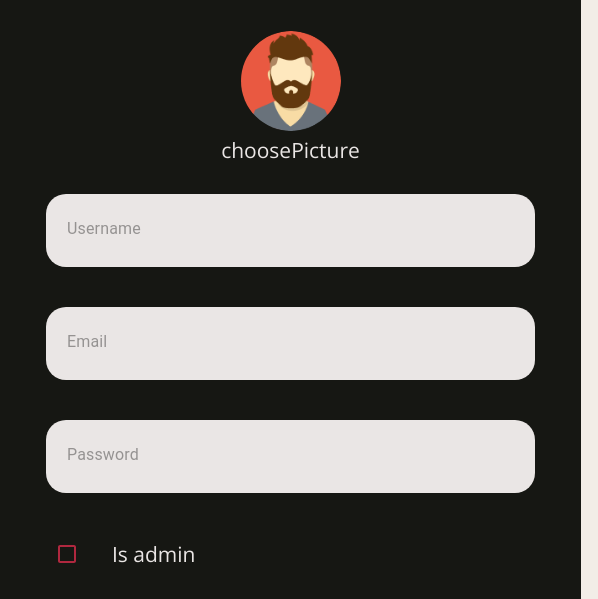
Test: RegisterForm › should display error message on failed register
Type "test" into the field with placeholder "Username" at (292, 229), box [67,213,516,245]
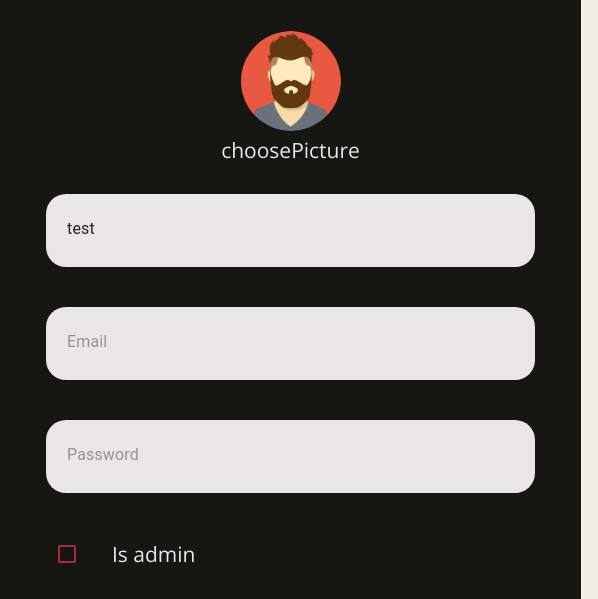
Type "test@mail.com" into the field with placeholder "Email" at (292, 342), box [67,326,516,358]
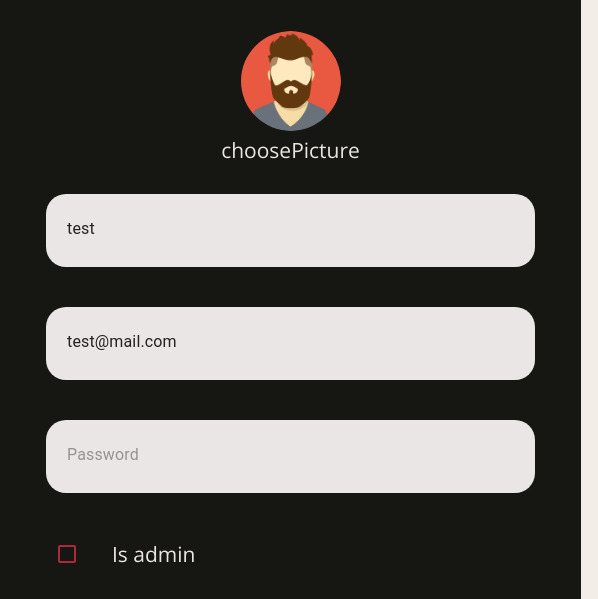
Type "wrongpass" into the password field with placeholder "Password" at (292, 455), box [67,439,516,471]
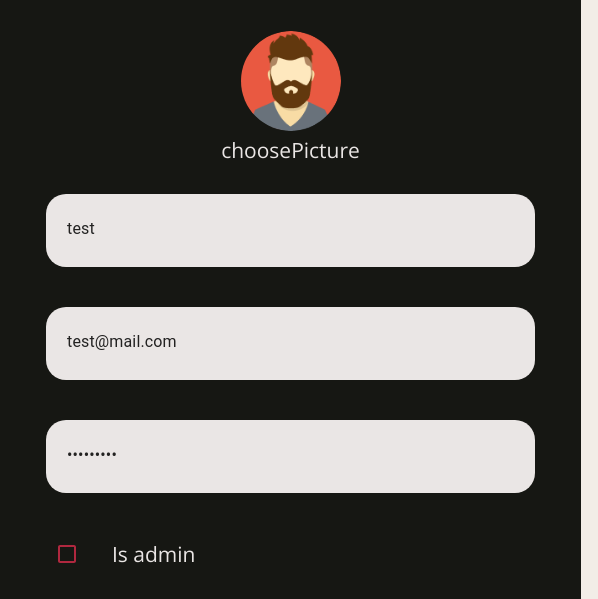
Click the checkbox at (67, 554), box [55,542,79,566]
(page scrolled)
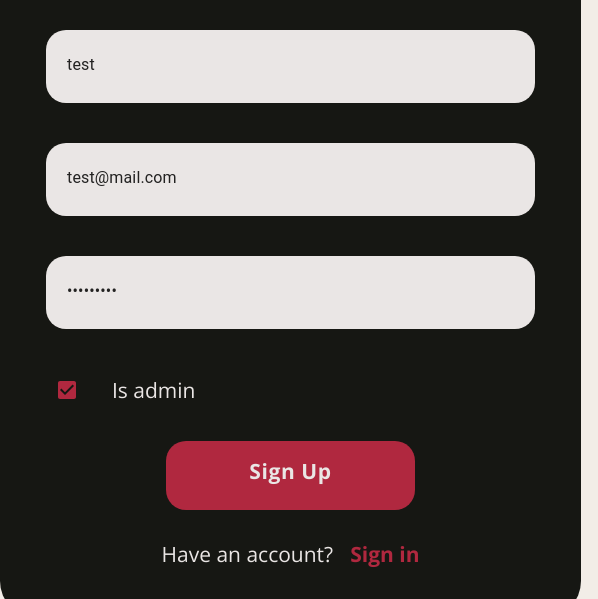
Click the button "Sign Up" at (291, 475), box [166,441,415,510]
(page scrolled)
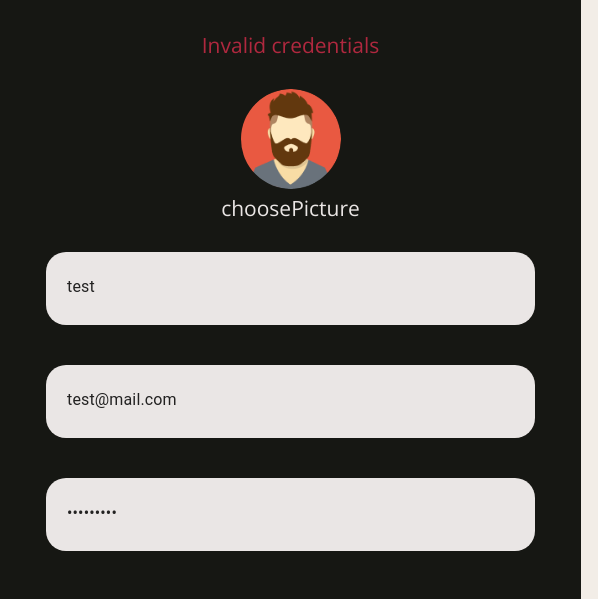
Check: the heading "Invalid credentials" is shown, box [202,31,379,59]
